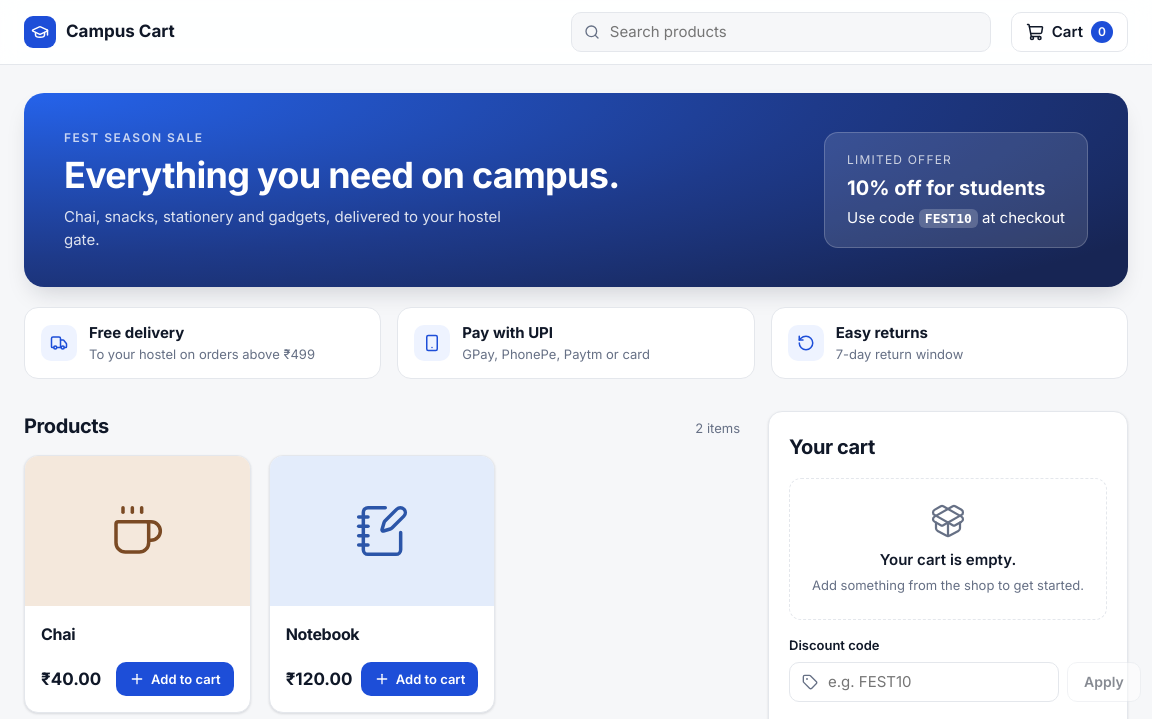
Test case: App › updates the cart badge after adding
This screenshot has width=1152, height=719.
Click the button with aria-label "Add Chai" at (175, 679), box top-left (116, 662), bottom-right (234, 696)
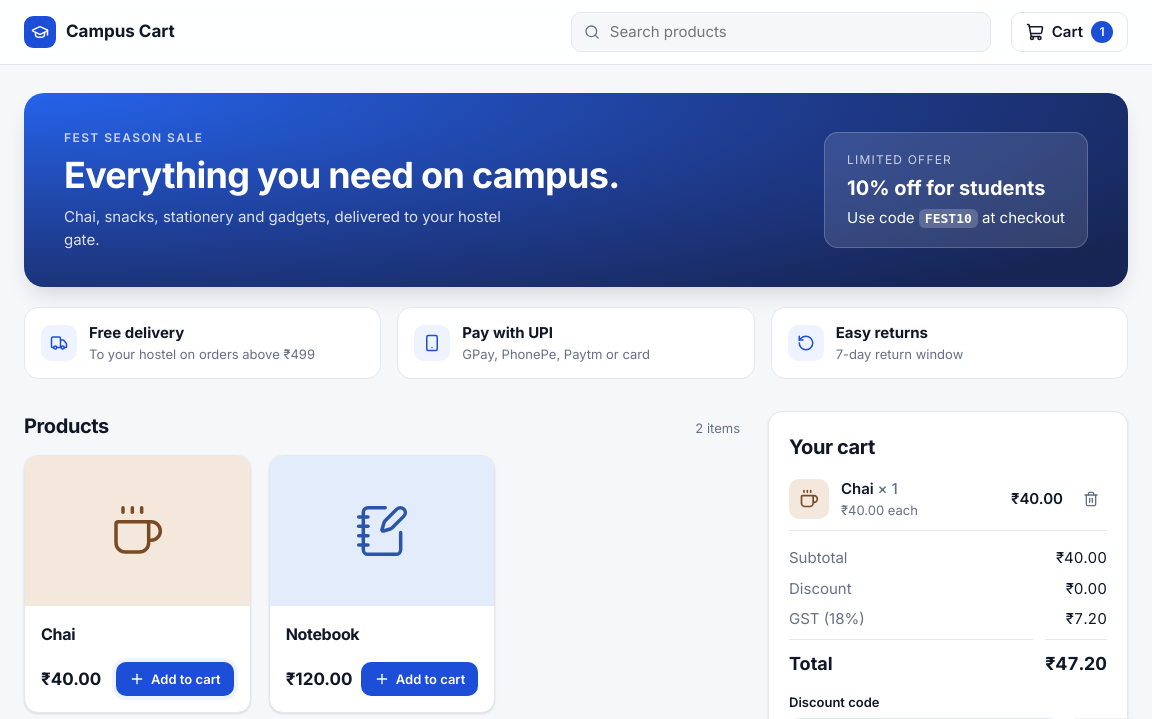
Expected: the link with aria-label "Cart, 1 item" is shown, top-left (1011, 12), bottom-right (1128, 52)
